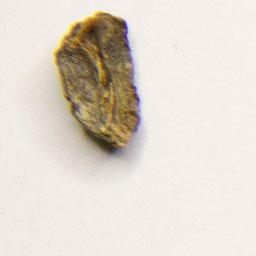defect: (47, 5, 150, 155)
